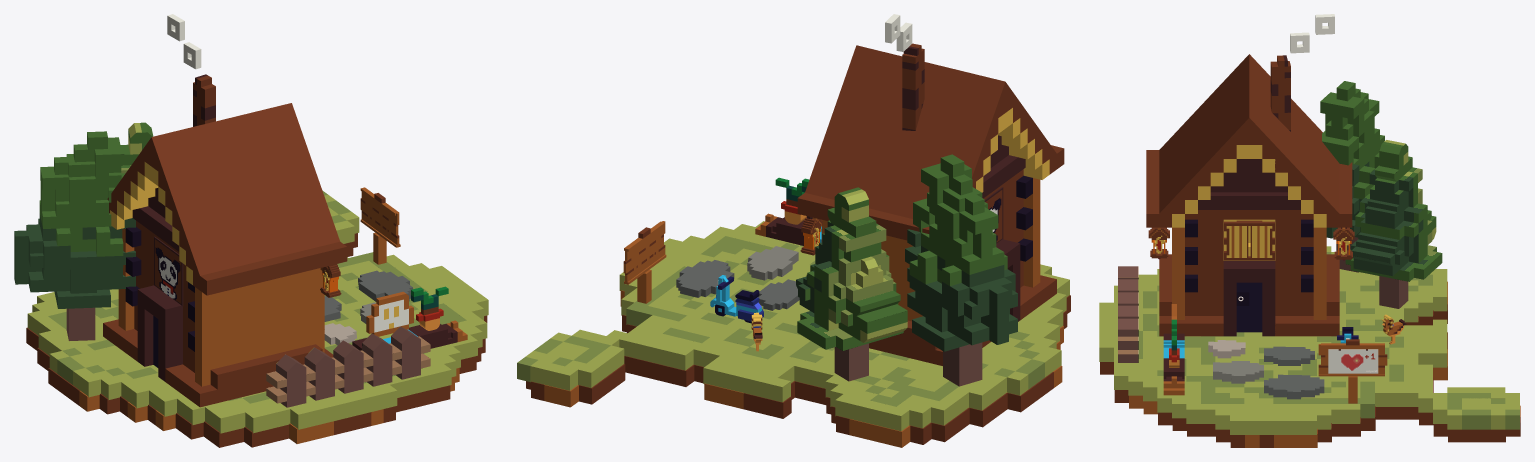
File: farmhouse.glb
3 renders of one model, left to right at view 1: azimuth 30°, elevation 25°; view 2: azimuth 150°, elevation 25°; view 3: azimuth 270°, elevation 25°, orthographic. The views are drawn at different scales.
Parts seen in each view (by area): view 1: house.001, generated(Clone).014, big-tree, generated(Clone).015, generated(Clone).008, generated(Clone).012, floor.001, my_sign.001, chimney.001, panda_painting, tree.001, lamp.003; view 2: generated(Clone).014, house.001, big-tree, tree.001, generated(Clone).015, floor.001, chimney.001, my_sign.001, generated(Clone).012, moto-cycle-blue.001, lamp.002, panda_painting; view 3: house.001, generated(Clone).014, tree.001, generated(Clone).015, big-tree, floor.001, chimney.001, generated(Clone).008, window.001, generated(Clone).012, my_sign.001, generated(Clone).010 (+2 smaller).
Part boxes in pixels (x1,y1,x2,y2): house.001: (103, 103, 347, 407); generated(Clone).014: (27, 190, 488, 433); big-tree: (14, 131, 135, 340); generated(Clone).015: (26, 233, 487, 447); generated(Clone).008: (266, 326, 430, 407); generated(Clone).012: (352, 286, 467, 350); floor.001: (324, 270, 412, 345); my_sign.001: (360, 187, 400, 264); chimney.001: (167, 14, 215, 126); panda_painting: (154, 236, 183, 306); tree.001: (120, 122, 153, 173); lamp.003: (320, 264, 341, 297); generated(Clone).014: (517, 221, 1069, 431); house.001: (797, 45, 1064, 365); big-tree: (905, 154, 1017, 386); tree.001: (796, 187, 907, 381); generated(Clone).015: (526, 290, 1070, 447); floor.001: (676, 246, 799, 310); chimney.001: (885, 14, 924, 130); my_sign.001: (623, 221, 666, 303); generated(Clone).012: (755, 177, 821, 245); moto-cycle-blue.001: (710, 275, 763, 323); lamp.002: (800, 216, 822, 255); panda_painting: (984, 187, 1003, 243); house.001: (1146, 54, 1352, 336); generated(Clone).014: (1099, 246, 1519, 434); tree.001: (1345, 140, 1442, 308); generated(Clone).015: (1100, 281, 1520, 447); big-tree: (1320, 81, 1384, 272); floor.001: (1208, 340, 1324, 399); chimney.001: (1270, 14, 1334, 131); generated(Clone).008: (1118, 266, 1138, 362); window.001: (1224, 220, 1274, 260); generated(Clone).012: (1163, 304, 1184, 395); my_sign.001: (1318, 339, 1387, 403); generated(Clone).010: (1328, 349, 1378, 373).
Size of the model in its own units: 4.1 by 3.33 by 4.05.
72 materials, 2 textured.
